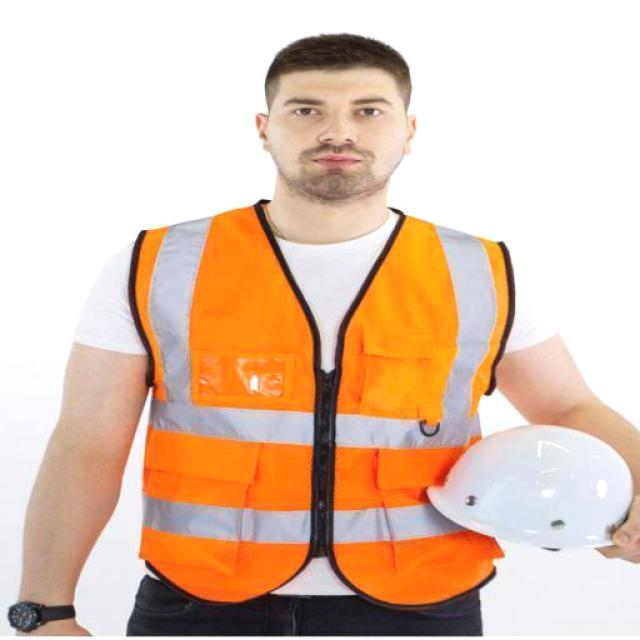face_nomask: (278, 91, 397, 181)
head_nohelmet: (247, 28, 427, 84)
person: (36, 22, 552, 640)
vest: (110, 196, 520, 613)
